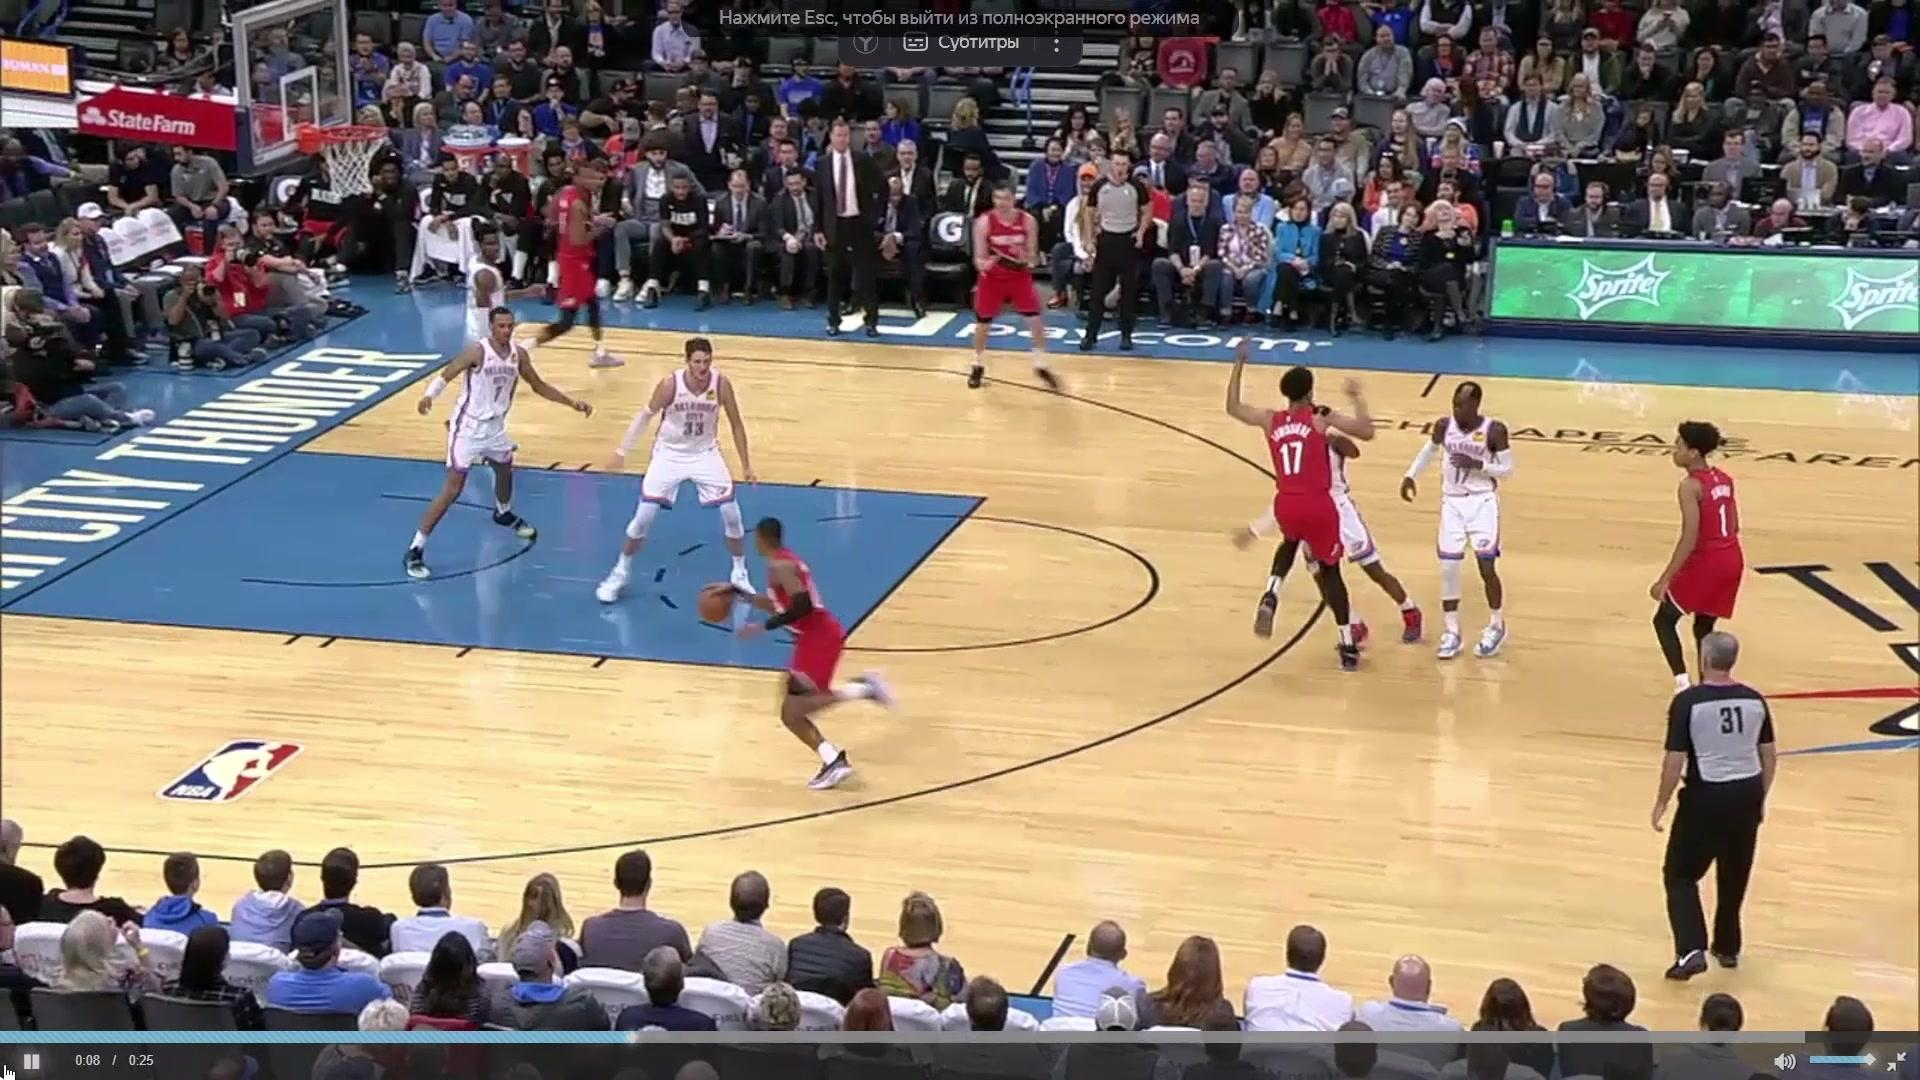foul: (1211, 342, 1420, 666)
